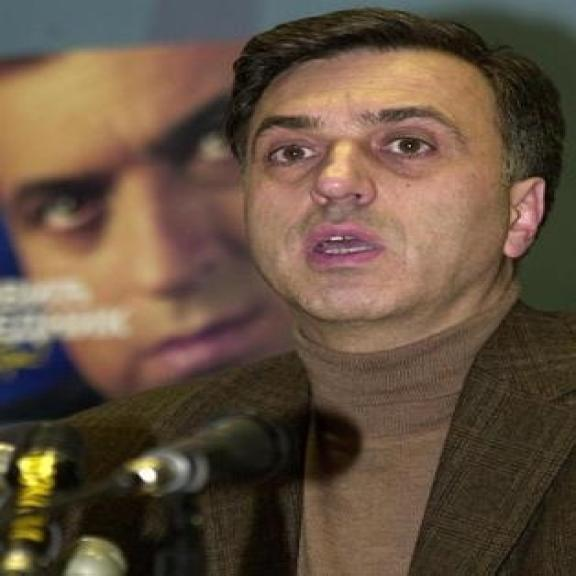face: (244, 50, 556, 325)
